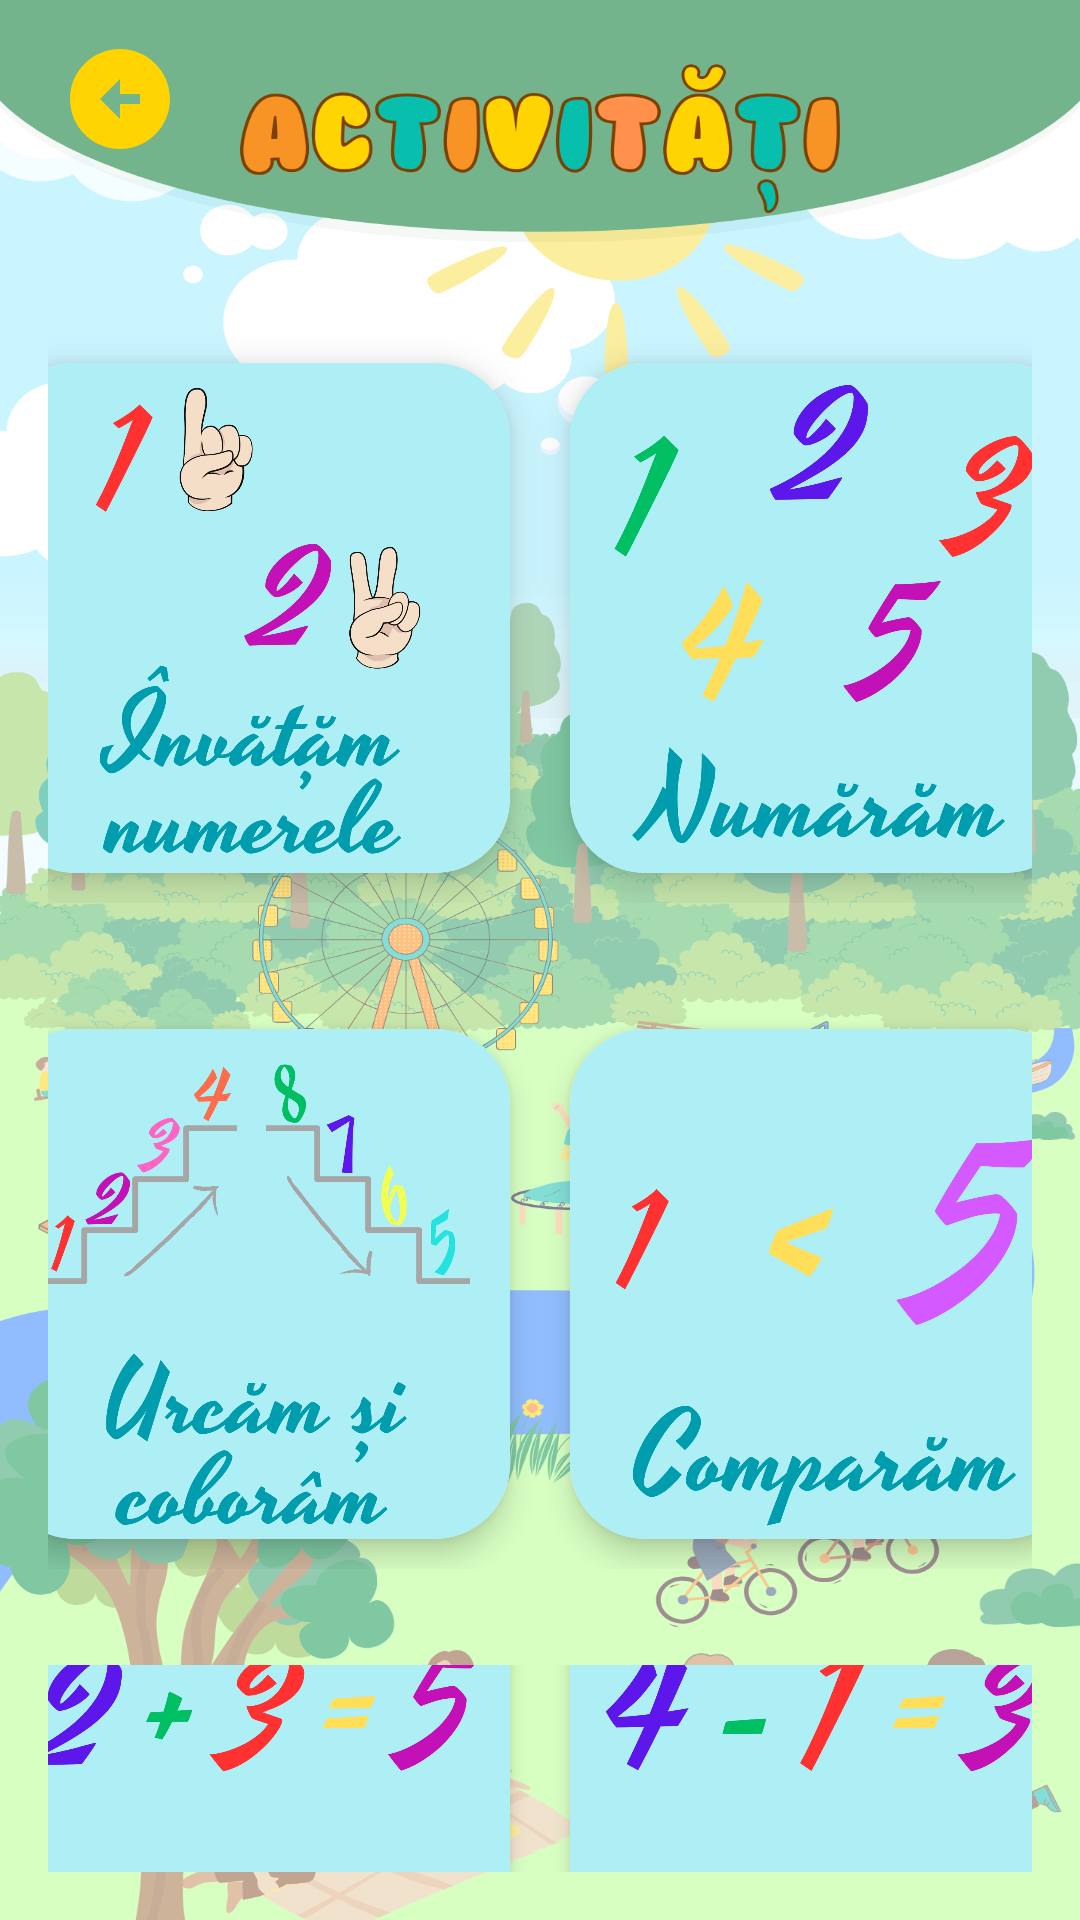

Screen size 1080px x 1920px. Icon name, then its center in pixels as point (x, y):
Înapoi: point (120, 99)
